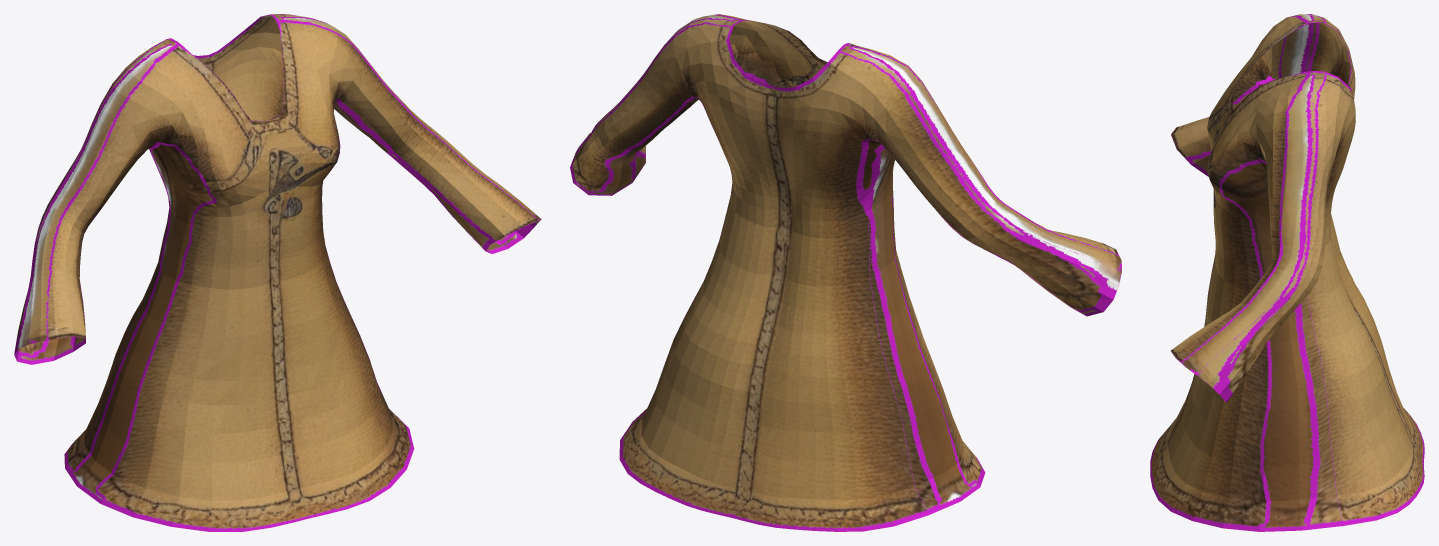
The picture shows the model from 3 angles, left to right: view 1: azimuth 30°, elevation 25°; view 2: azimuth 150°, elevation 25°; view 3: azimuth 270°, elevation 25°; orthographic projection. The views are drawn at different scales.
Bounding box in the file's own units: 1.08 × 0.8562 × 0.5041.
Materials: 1 (1 with a texture image).
